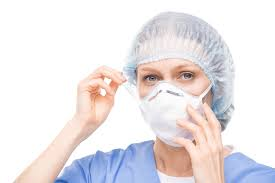with_mask_and_cap: (133, 13, 218, 147)
